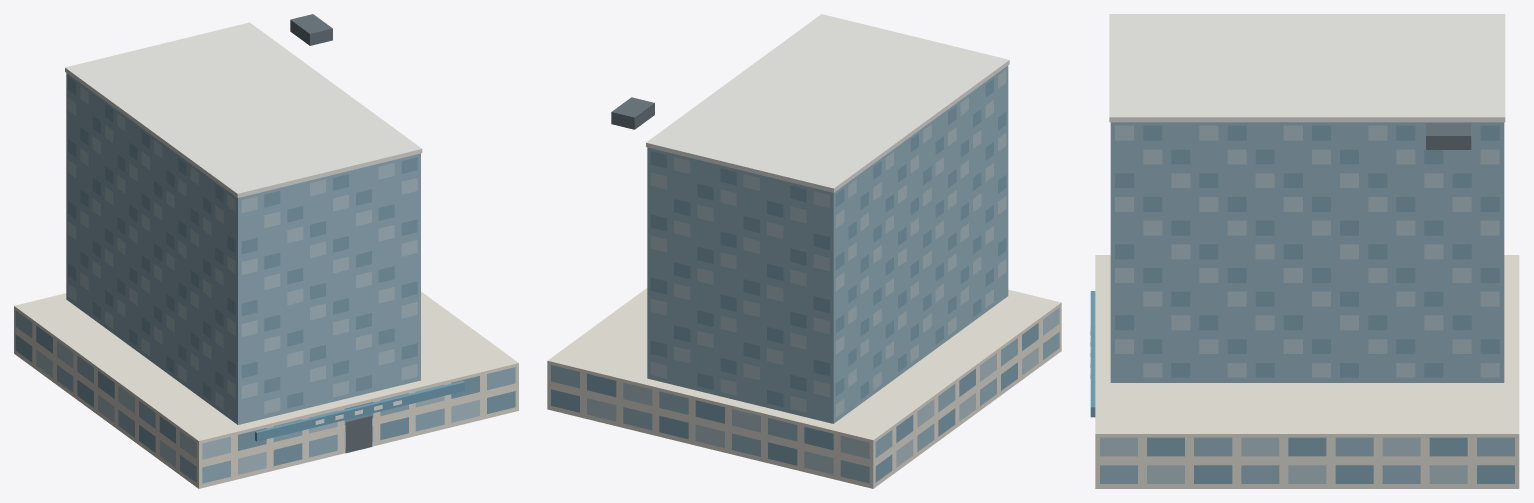
Rendered from sky-building-7.glb.
The picture shows the model from 3 angles, left to right: view 1: azimuth 30°, elevation 25°; view 2: azimuth 150°, elevation 25°; view 3: azimuth 270°, elevation 25°; orthographic projection. The views are drawn at different scales.
Bounding box in the file's own units: 14.02 × 12 × 14.18.
